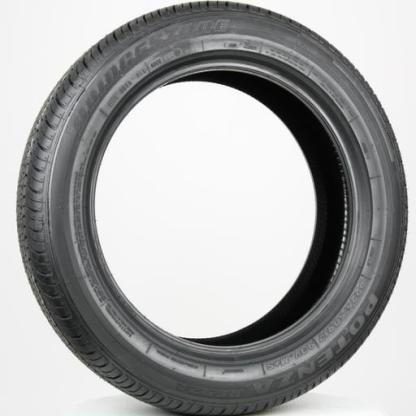Tire: (12, 1, 413, 415)
